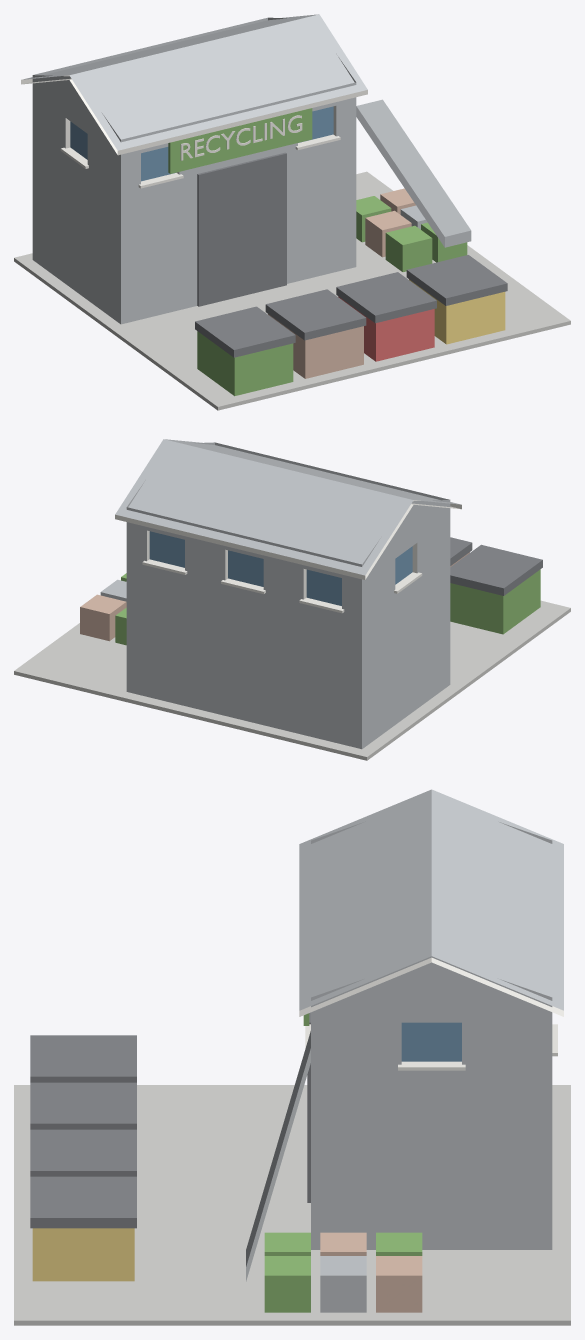
File: recycling_center.glb
3 views of the same model, one above another, from view 1: azimuth 30°, elevation 25°; view 2: azimuth 150°, elevation 25°; view 3: azimuth 270°, elevation 25° (orthographic). The views are drawn at different scales.
Parts seen in each view (by area): view 1: recycling_center; view 2: recycling_center; view 3: recycling_center.
Boxes of the visible parts, x1,y1,x2,y2 form: recycling_center: [14, 14, 570, 410]; recycling_center: [14, 439, 570, 760]; recycling_center: [14, 789, 570, 1325].
Bounding box in the file's own units: 12 × 7.22 × 12.
